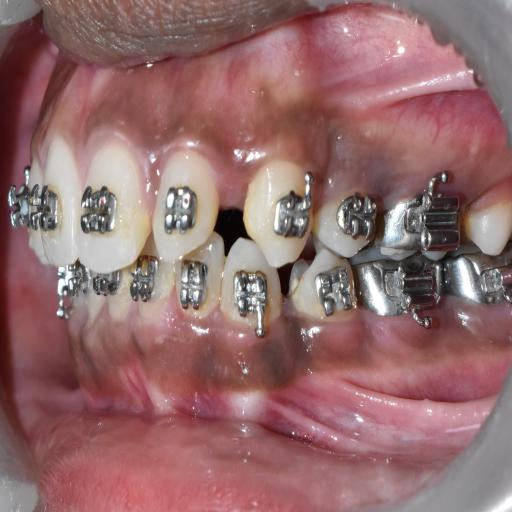correct_brace: (317, 180, 380, 261), (271, 168, 316, 246), (75, 178, 126, 241), (158, 180, 203, 242)
incorrect_brace: (148, 139, 224, 267), (334, 189, 380, 246)
